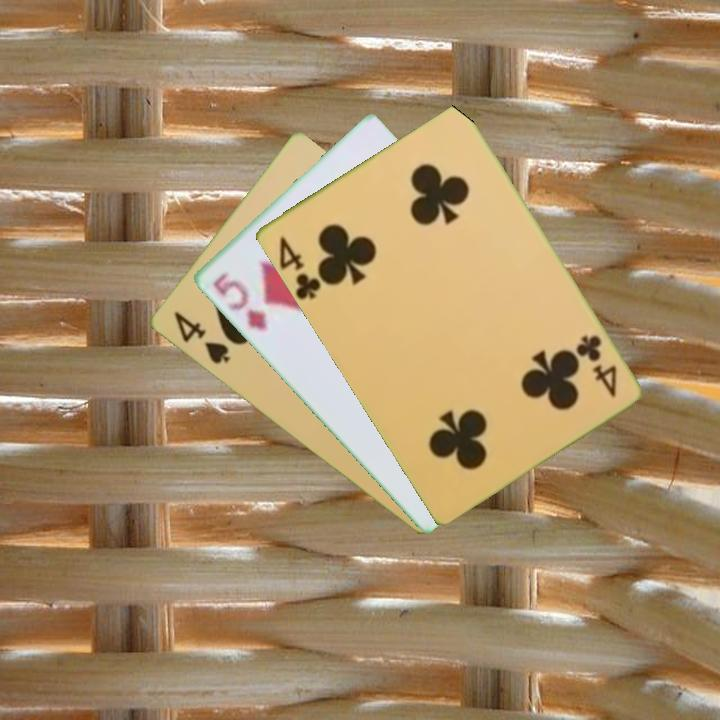4c: (274, 232, 323, 303), (572, 331, 620, 401)
4s: (170, 307, 233, 368)
5d: (209, 267, 271, 334)
